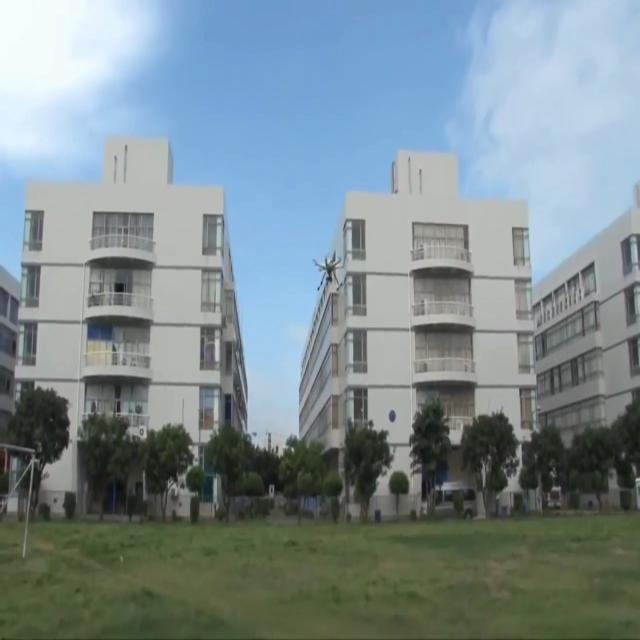drone: (312, 250, 343, 290)
